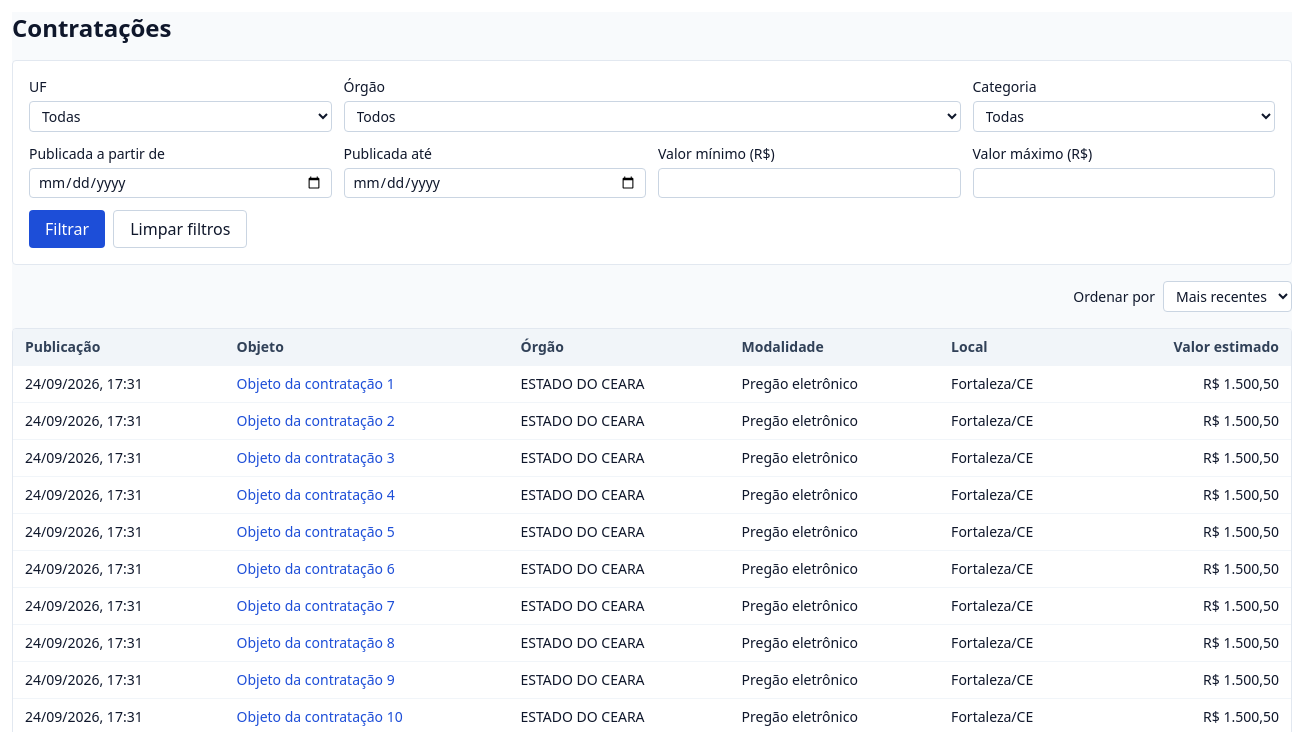
it: ContratacoesView — filtros alteram a requisição › datas invertidas: avisa e não consulta a API
The image size is (1304, 732).
Type "2026-09-30" into the date field labelled "Publicada a partir de". click: point(180, 183)
box: [29,168,332,198]
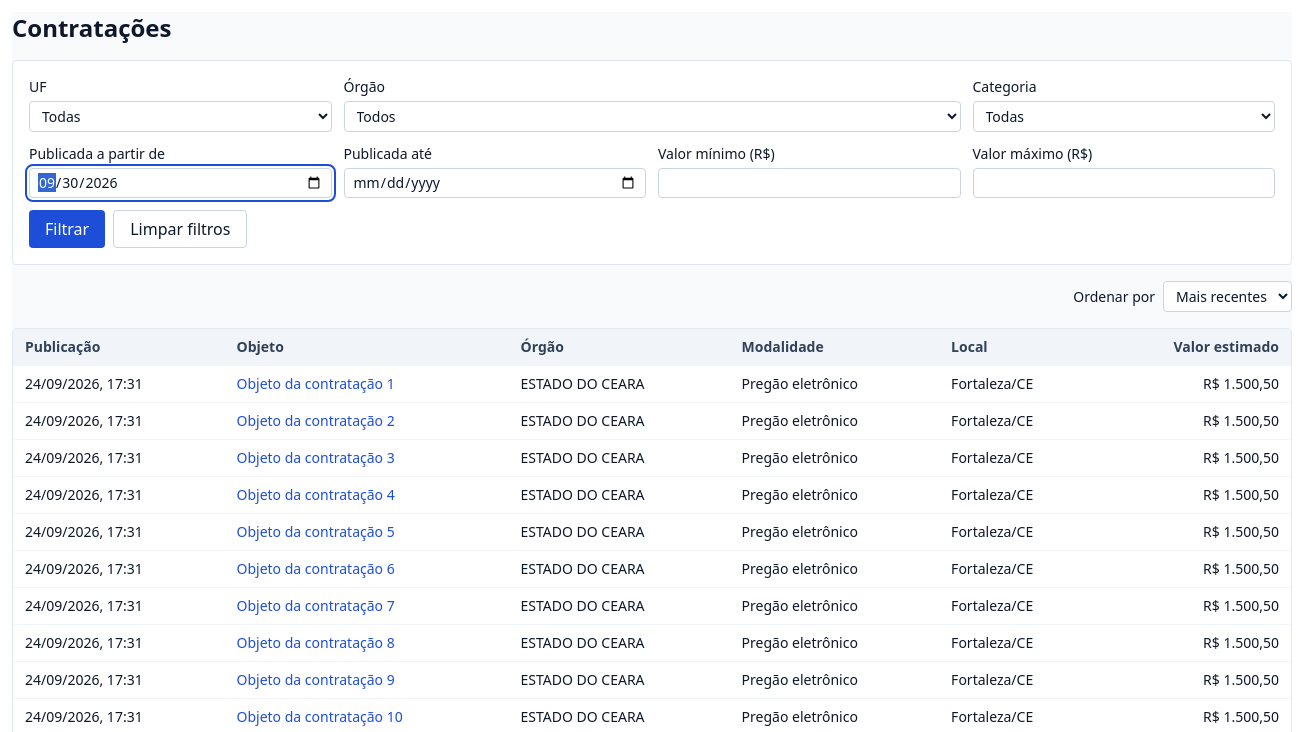
Type "2026-09-01" into the date field labelled "Publicada até". click: point(495, 183)
box: [344,168,646,198]
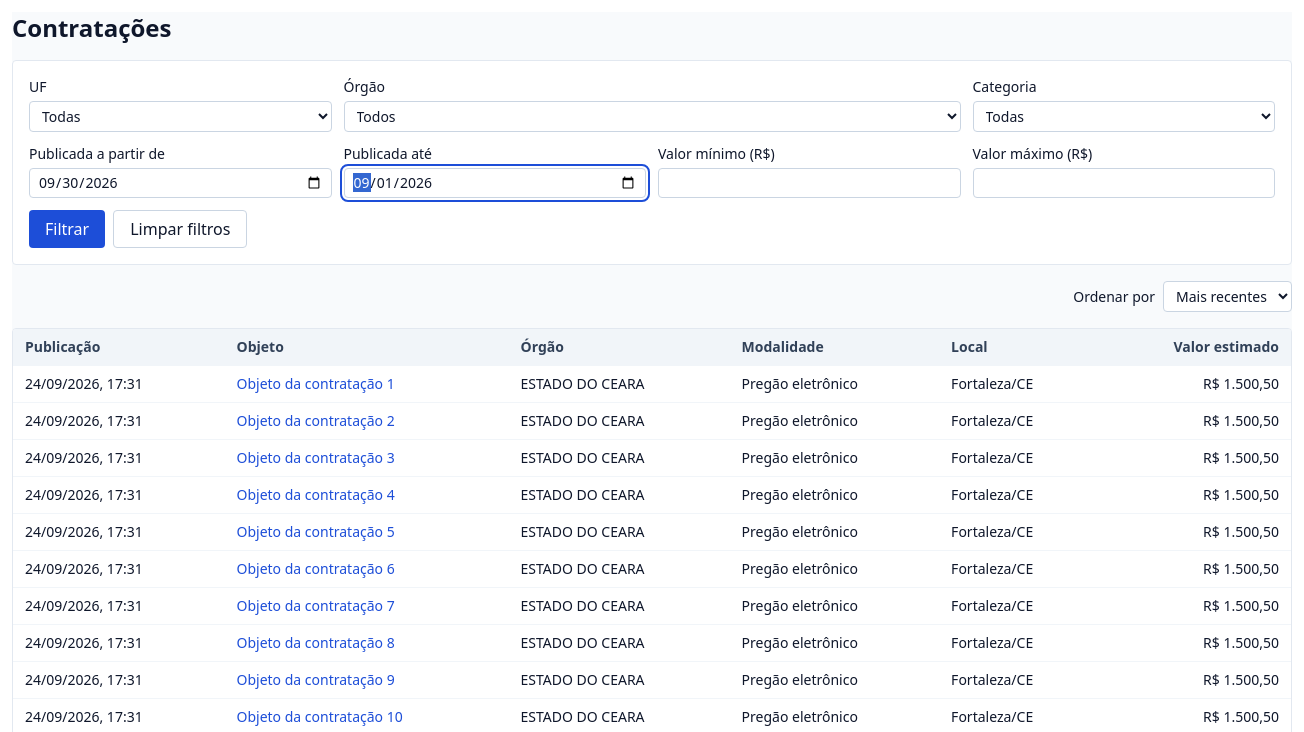
Click the button "Filtrar". click: point(67, 229)
box: [29,210,105,248]
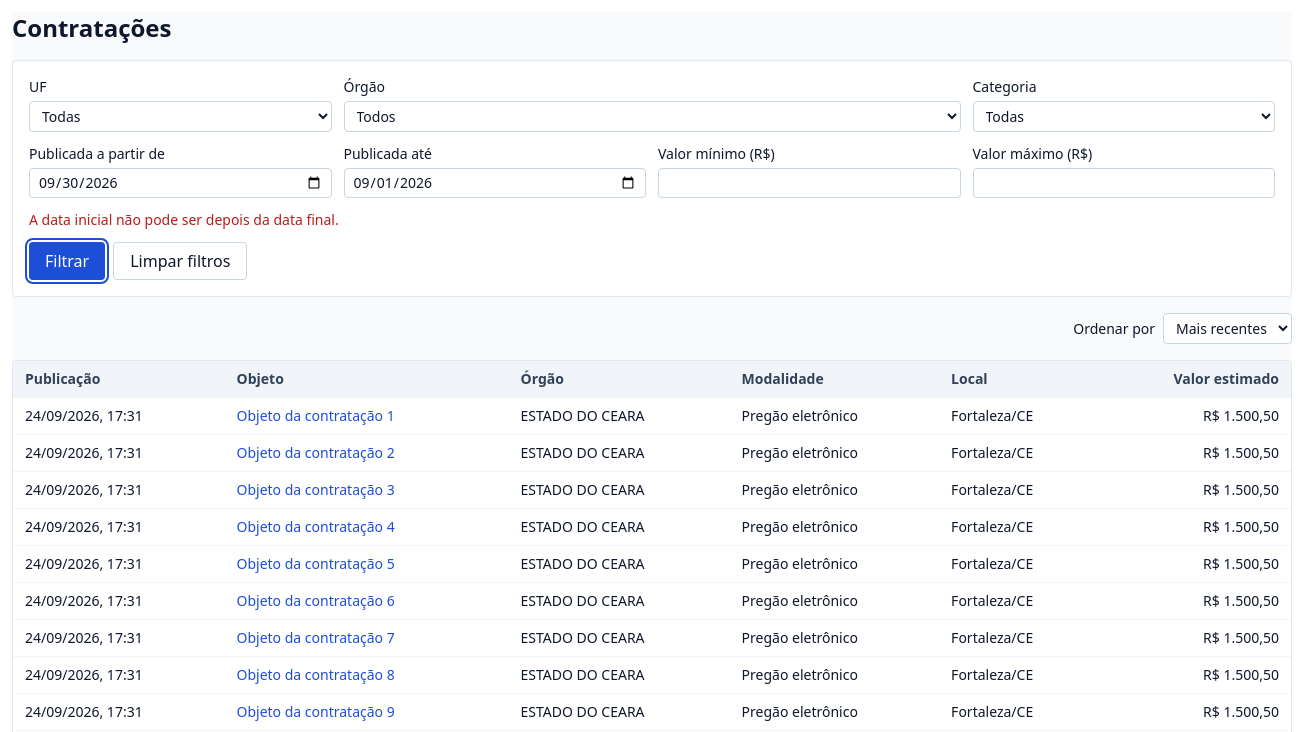
Now the message shows "A data inicial não pode ser depois", box [29,210,339,229]
